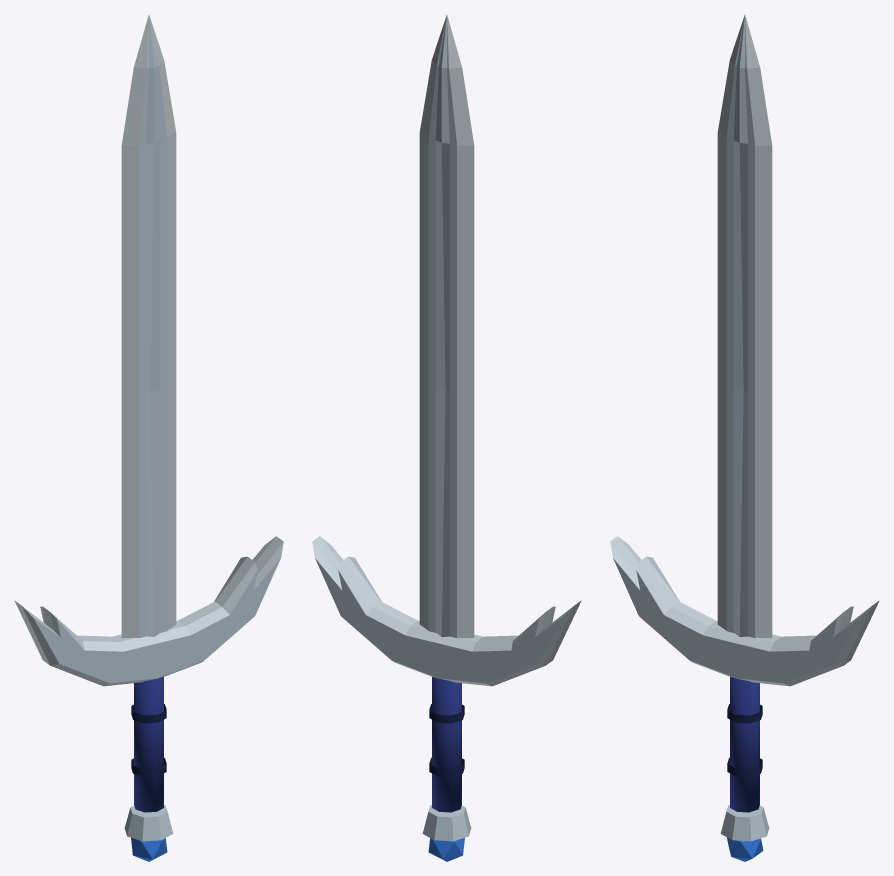
The model's file is platinum_broadsword.glb.
3 renders of one model, left to right at view 1: azimuth 30°, elevation 25°; view 2: azimuth 150°, elevation 25°; view 3: azimuth 330°, elevation 25°, orthographic.
Parts seen in each view (by area): view 1: platinum_broadsword_v0; view 2: platinum_broadsword_v0; view 3: platinum_broadsword_v0.
Boxes of the visible parts, x1,y1,x2,y2 form: platinum_broadsword_v0: (14, 15, 283, 861); platinum_broadsword_v0: (312, 15, 581, 861); platinum_broadsword_v0: (610, 15, 879, 861).
Bounding box in the file's own units: 0.408 × 1.26 × 0.068.
